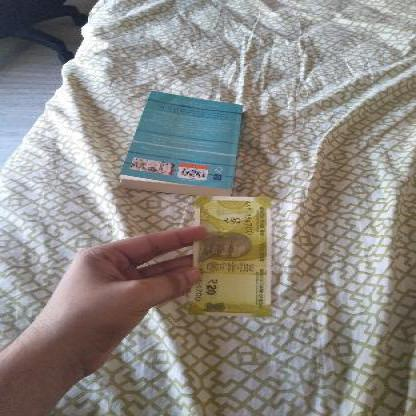New20Front: (192, 197, 271, 314)
